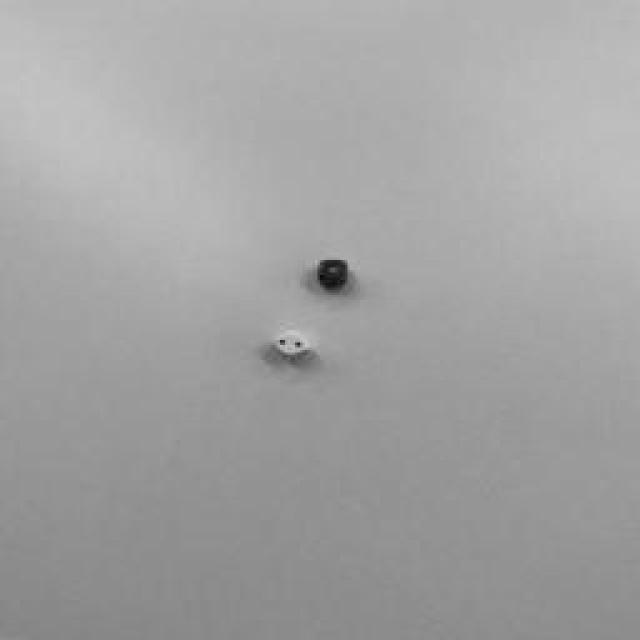dice_1: (320, 260, 348, 280)
dice_2: (276, 333, 306, 355)
